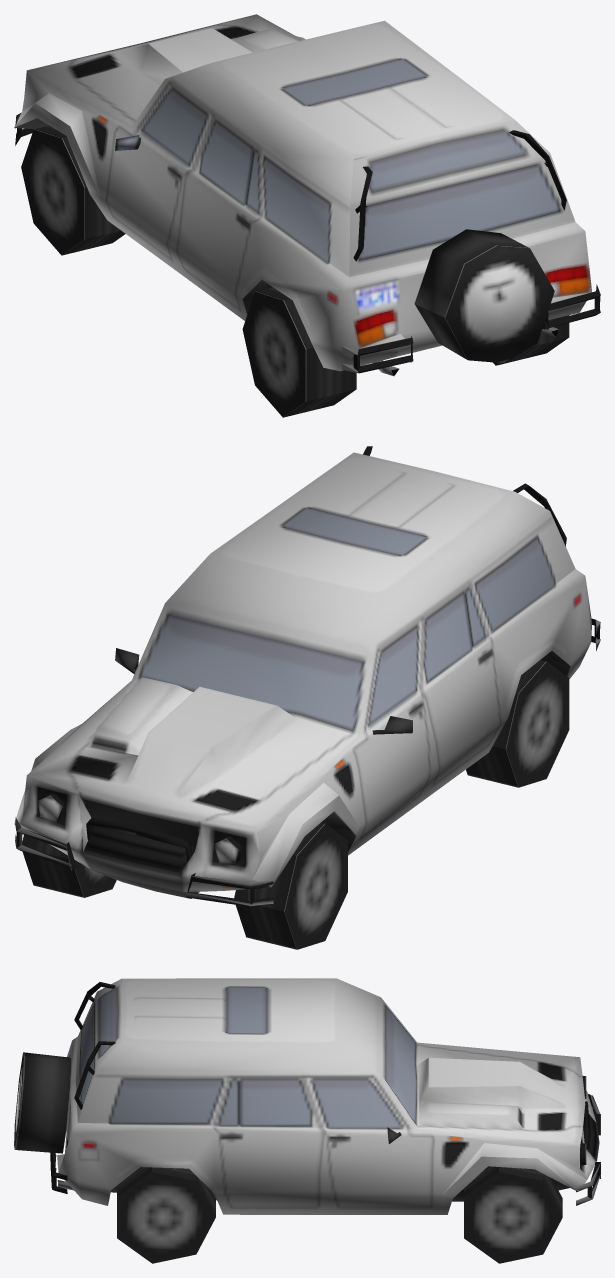
Rendered from fhqDiecast18LM002Estate.fbx.
The picture shows the model from 3 angles, top to bottom: view 1: azimuth 30°, elevation 25°; view 2: azimuth 150°, elevation 25°; view 3: azimuth 270°, elevation 25°; orthographic projection. The views are drawn at different scales.
Parts seen in each view (by area): view 1: fhqlm002Estate; view 2: fhqlm002Estate; view 3: fhqlm002Estate.
Part boxes in pixels (left/top/right/bottom): fhqlm002Estate: left=14, top=14, right=600, bottom=417; fhqlm002Estate: left=14, top=446, right=600, bottom=949; fhqlm002Estate: left=14, top=978, right=600, bottom=1263.
Size of the model in its own units: 0.2615 by 0.2193 by 0.57.
